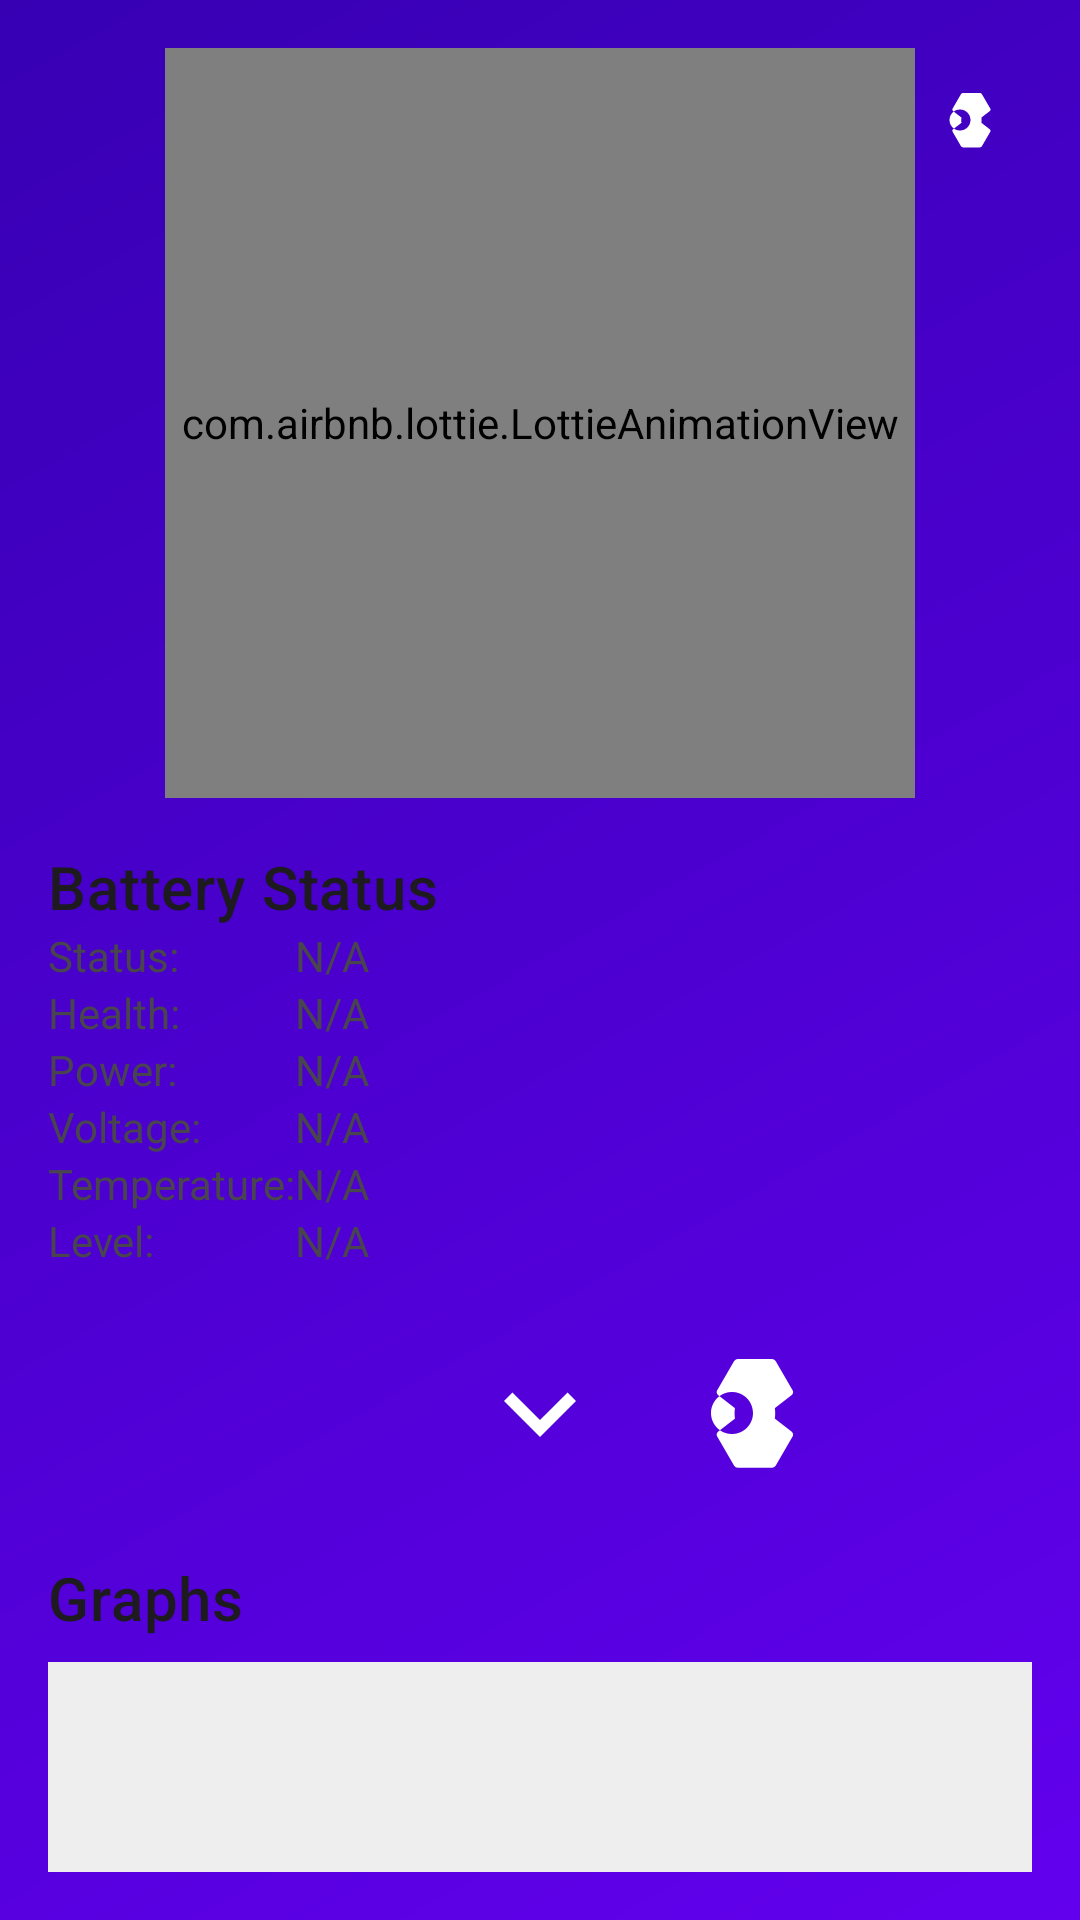

Point at icon controls on the screen. Image size 1080px x 1920px, points as (x=x, y=y).
Arrow down icon: (x=540, y=1414)
